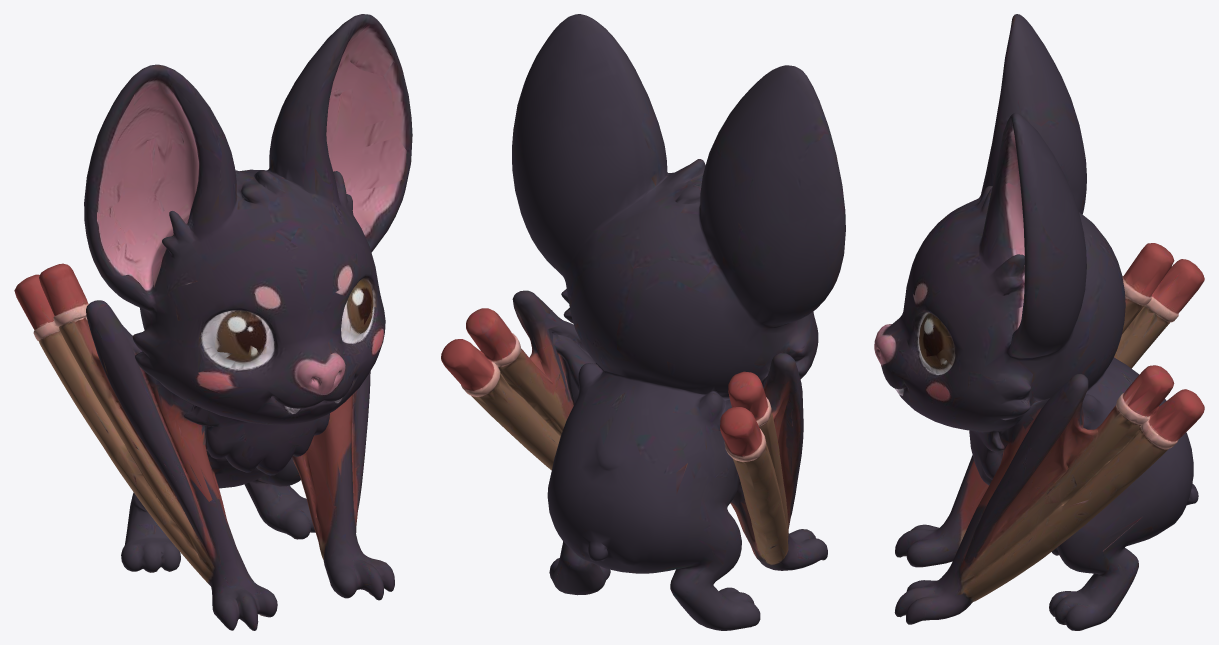
3 renders of one model, left to right at view 1: azimuth 30°, elevation 25°; view 2: azimuth 150°, elevation 25°; view 3: azimuth 270°, elevation 25°, orthographic. The views are drawn at different scales.
Parts seen in each view (by area): view 1: Mesh_0; view 2: Mesh_0; view 3: Mesh_0.
Part boxes in pixels (box(x1,y1,x2,y2)): Mesh_0: box(14, 14, 412, 630); Mesh_0: box(441, 14, 845, 630); Mesh_0: box(874, 14, 1204, 630).
Size of the model in its own units: 1.22 by 1.9 by 1.09.
1 material, 1 textured.
